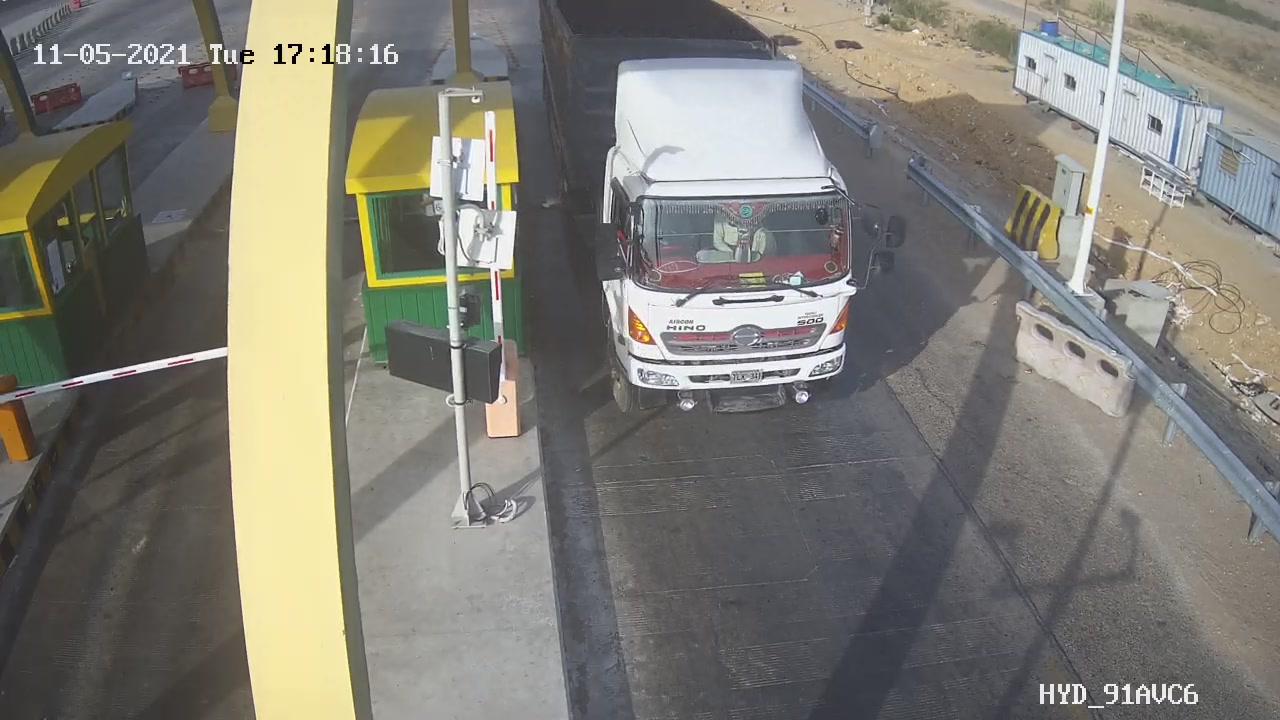F6: (518, 1, 926, 442)
